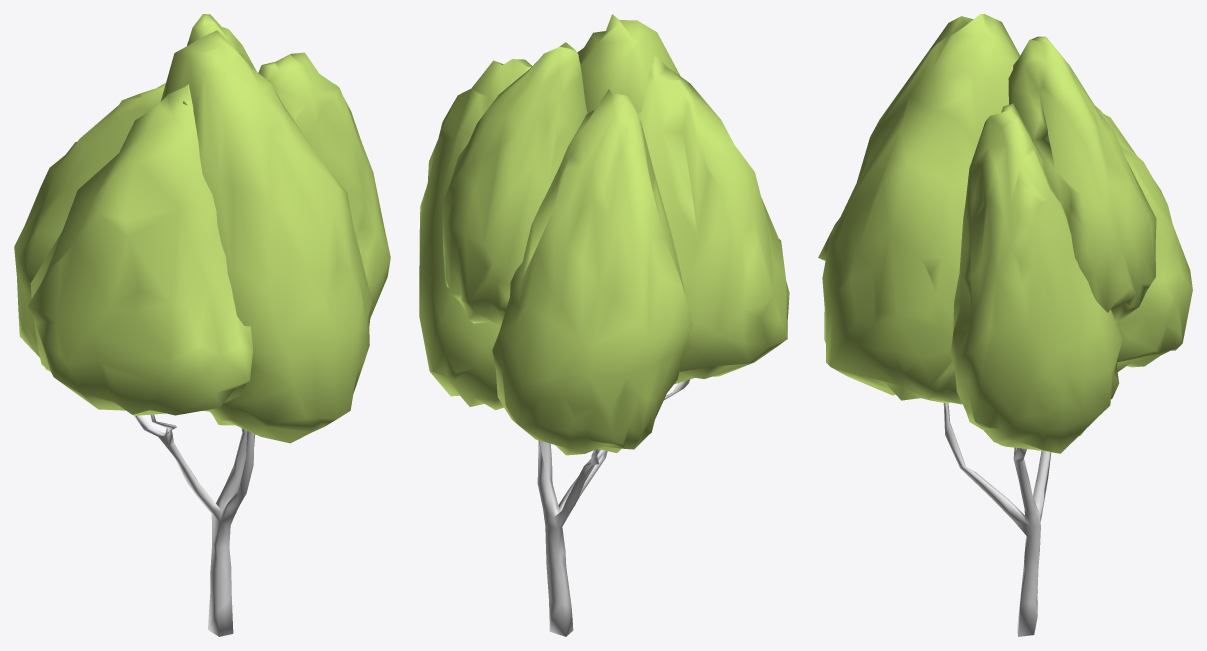
Rendered from tree1.dae.
3 renders of one model, left to right at view 1: azimuth 30°, elevation 25°; view 2: azimuth 150°, elevation 25°; view 3: azimuth 270°, elevation 25°, orthographic. The views are drawn at different scales.
Parts seen in each view (by area): view 1: Icosphere.001, Cube.001; view 2: Icosphere.001, Cube.001; view 3: Icosphere.001, Cube.001.
Boxes of the visible parts, x1,y1,x2,y2 form: Icosphere.001: (14,14,390,443); Cube.001: (134,414,255,636); Icosphere.001: (419,14,789,455); Cube.001: (537,379,689,636); Icosphere.001: (818,14,1192,453); Cube.001: (943,403,1051,636).
Size of the model in its own units: 13.64 by 13.03 by 23.25.
